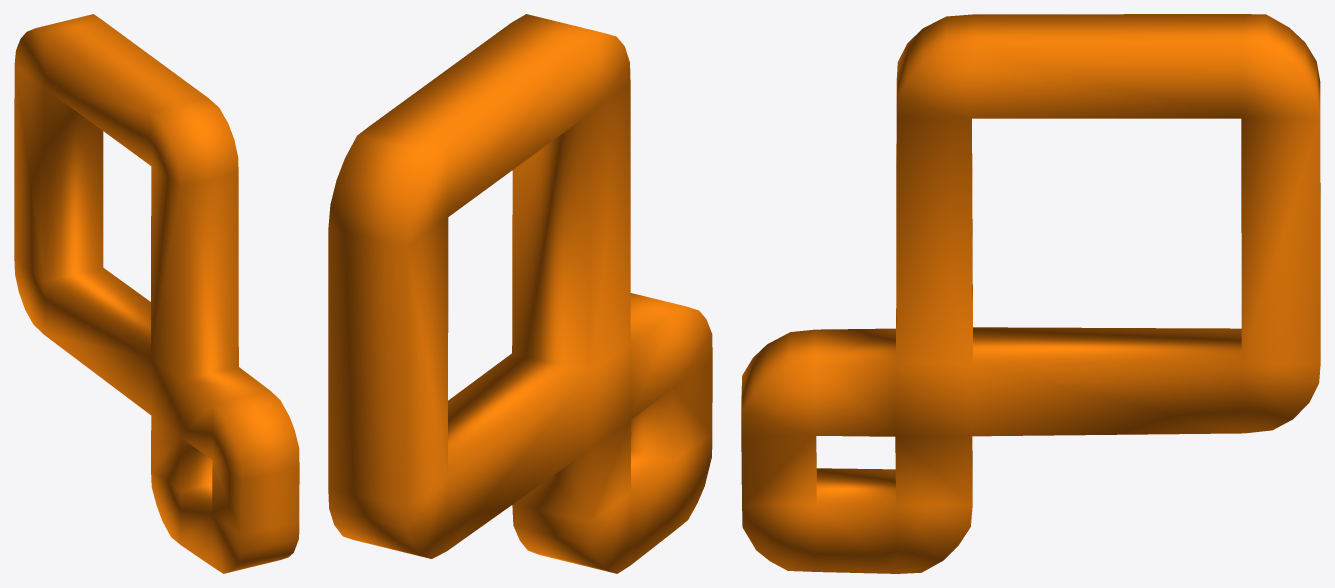
File: uniat.fbx
The picture shows the model from 3 angles, left to right: view 1: azimuth 30°, elevation 25°; view 2: azimuth 150°, elevation 25°; view 3: azimuth 270°, elevation 25°; orthographic projection. The views are drawn at different scales.
Visible parts, largest first — view 1: Plane; view 2: Plane; view 3: Plane.
Boxes of the visible parts, <box> form: Plane: <box>14,14,299,573</box>; Plane: <box>328,14,712,573</box>; Plane: <box>741,14,1320,573</box>.
Size of the model in its own units: 20 by 136 by 136.
